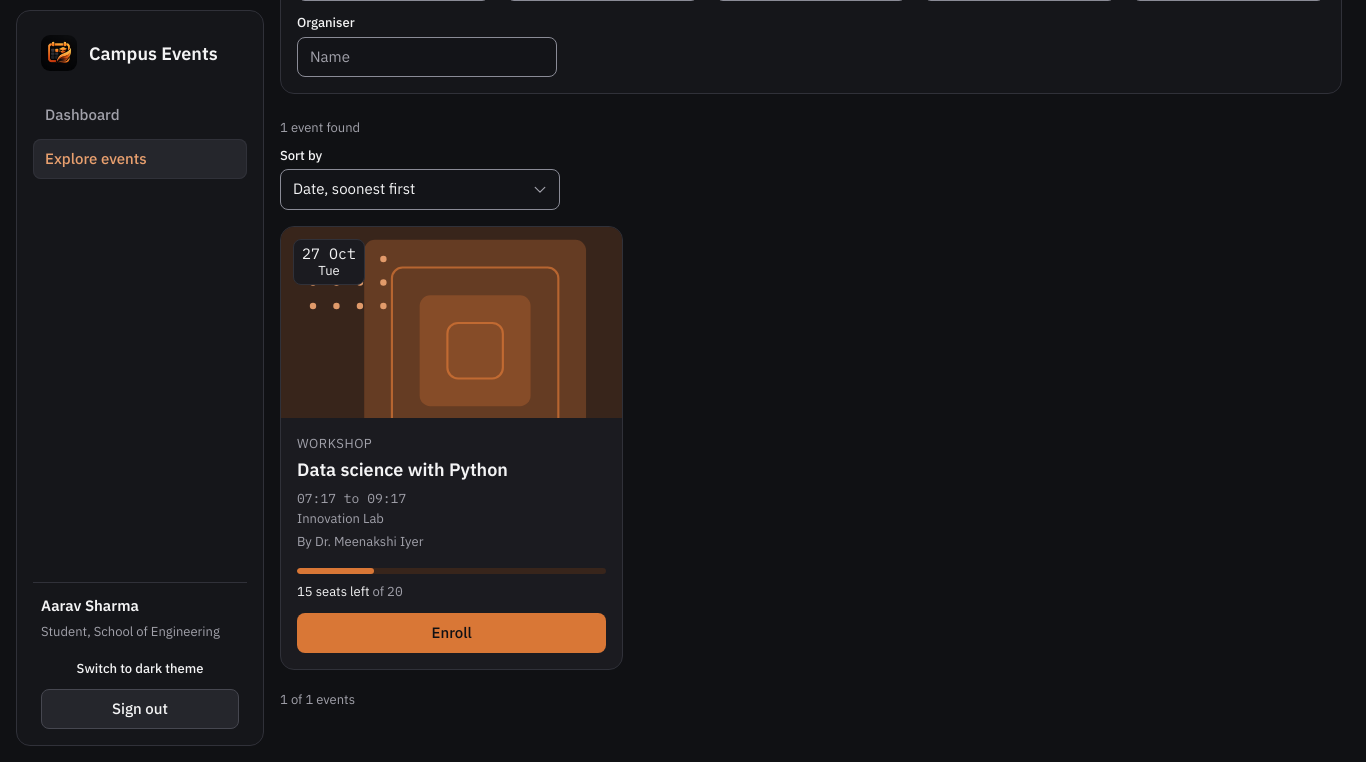
event cards › shows cover, details, seat count and an Enroll button, and enrolls from the card
This screenshot has width=1366, height=762.
(page scrolled)
Check: the text "Innovation Lab" is shown, box [297,510,384,527]
Check: the text "By Dr. Meenakshi Iyer" is shown, box [297,532,423,552]
Click the button with aria-label "Enroll in Data science with Python": (452, 633) [297,613,606,653]
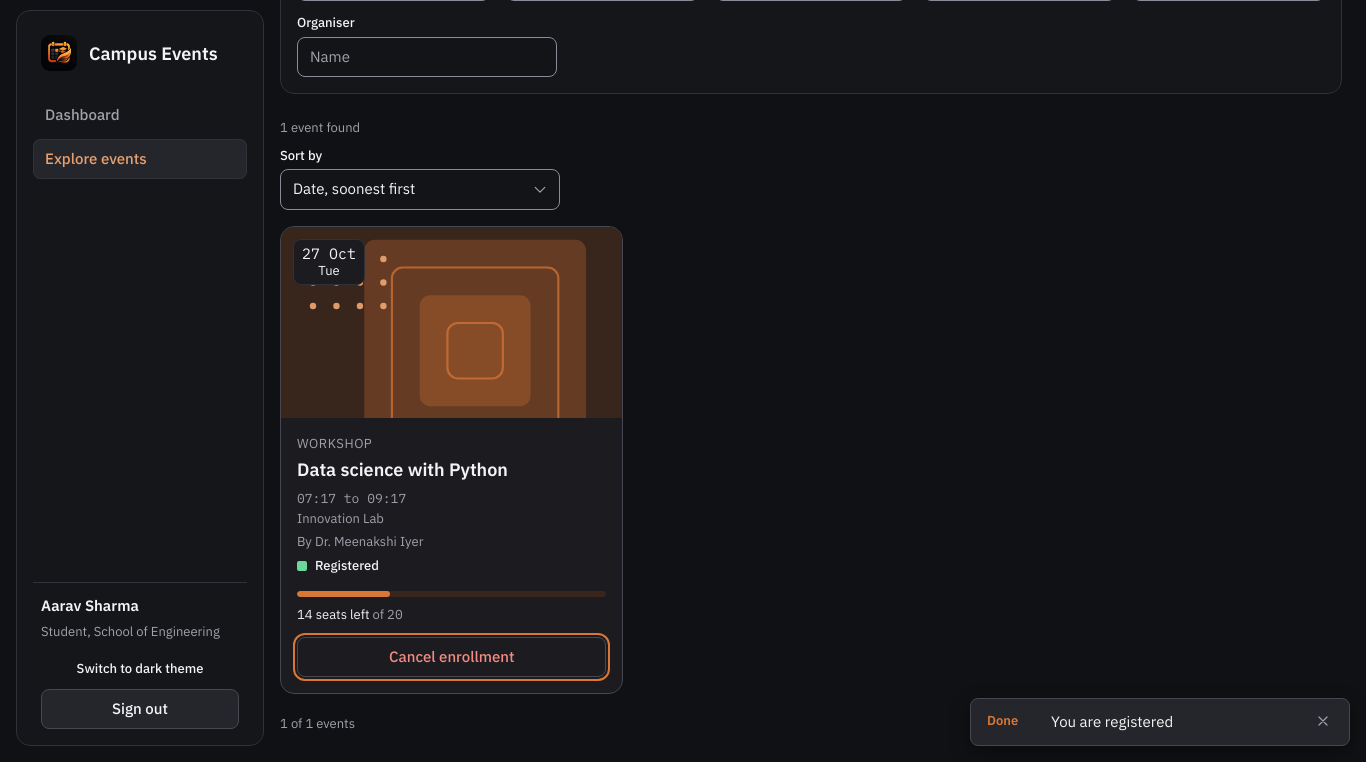
Check: the button with aria-label "Cancel enrollment in Data science with Python" is shown, box [297,637,606,677]
Check: the text "Registered" is shown, box [297,556,379,575]
